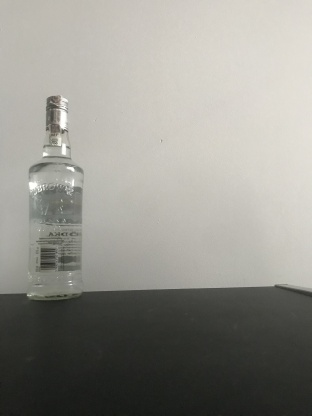nakretka: (44, 92, 70, 134)
